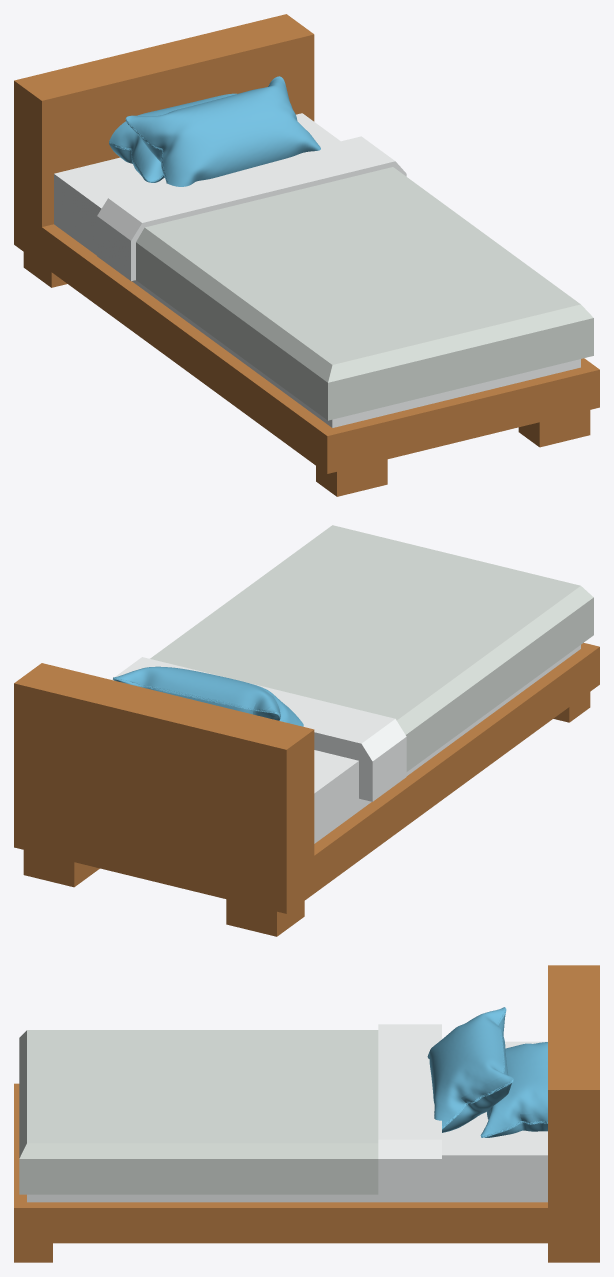
File: bed.glb
The picture shows the model from 3 angles, top to bottom: view 1: azimuth 30°, elevation 25°; view 2: azimuth 150°, elevation 25°; view 3: azimuth 270°, elevation 25°; orthographic projection. The views are drawn at different scales.
Parts seen in each view (by area): view 1: BedCover.002, Bed, Pillow2.001, Pillow1.001; view 2: Bed, BedCover.002, Pillow2.001; view 3: BedCover.002, Bed, Pillow2.001, Pillow1.001.
Boxes of the visible parts, box(x1,y1,x2,y2) form: BedCover.002: box(97, 136, 593, 420); Bed: box(14, 14, 599, 496); Pillow2.001: box(125, 76, 320, 186); Pillow1.001: box(109, 93, 236, 182); Bed: box(14, 643, 599, 936); BedCover.002: box(111, 525, 593, 801); Pillow2.001: box(113, 666, 303, 726); BedCover.002: box(19, 1024, 441, 1196); Bed: box(14, 965, 599, 1262); Pillow2.001: box(427, 1007, 513, 1132); Pillow1.001: box(480, 1042, 547, 1137).
Size of the model in its own units: 1.72 by 1.13 by 3.39.
